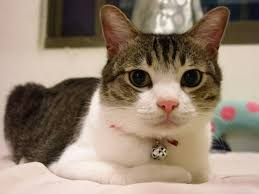cat: (4, 1, 232, 189)
